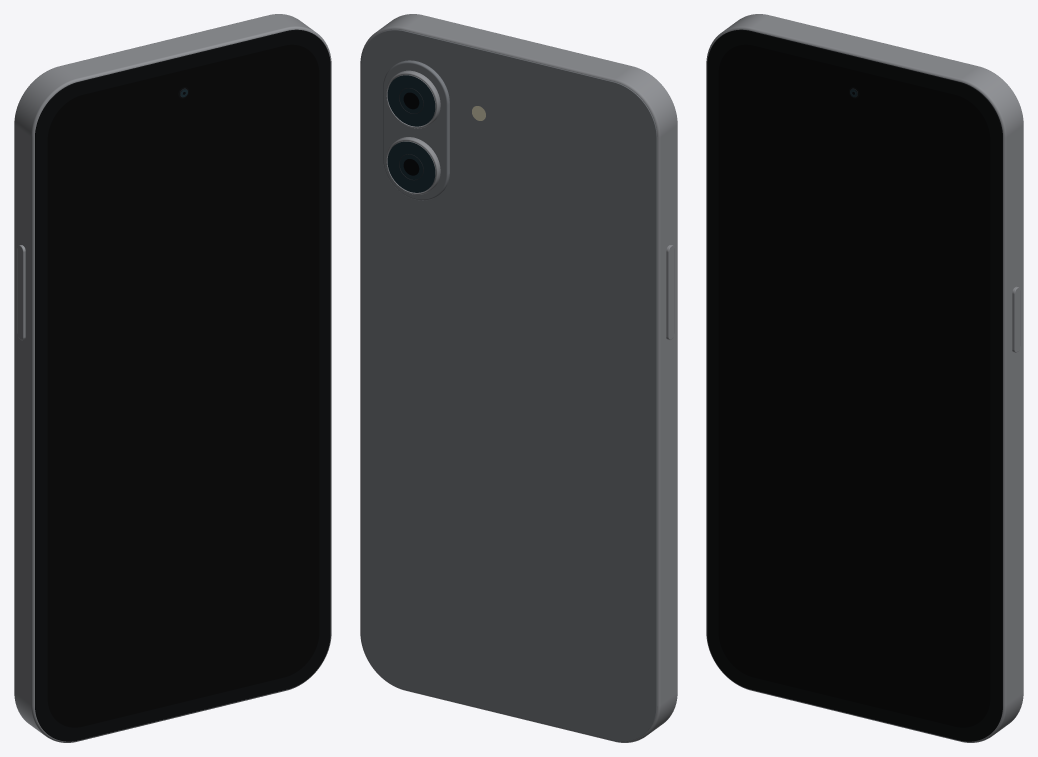
Rendered from generic-smartphone.glb.
The picture shows the model from 3 angles, left to right: view 1: azimuth 30°, elevation 25°; view 2: azimuth 150°, elevation 25°; view 3: azimuth 330°, elevation 25°; orthographic projection.
Parts seen in each view (by area): view 1: ScreenSurface, FrontBezel, Frame, SideButton; view 2: BackPanel, Frame, CameraPlate, Camera_optical_coating (×2), CameraBarrel (×2), SideButton; view 3: ScreenSurface, FrontBezel, Frame, SideButton.
Part boxes in pixels (x1=…): ScreenSurface: x1=47, y1=44, x2=319, y2=727; FrontBezel: x1=35, y1=29, x2=330, y2=741; Frame: x1=14, y1=14, x2=331, y2=742; SideButton: x1=17, y1=245, x2=25, y2=340; BackPanel: x1=361, y1=29, x2=657, y2=741; Frame: x1=360, y1=14, x2=677, y2=742; CameraPlate: x1=383, y1=60, x2=449, y2=200; Camera_optical_coating (×2): x1=387, y1=75, x2=435, y2=192; CameraBarrel (×2): x1=386, y1=70, x2=440, y2=194; SideButton: x1=666, y1=245, x2=674, y2=340; ScreenSurface: x1=718, y1=44, x2=990, y2=727; FrontBezel: x1=707, y1=29, x2=1002, y2=741; Frame: x1=706, y1=14, x2=1023, y2=742; SideButton: x1=1012, y1=286, x2=1020, y2=352.
Size of the model in its own units: 1.64 by 3.4 by 0.2592.
